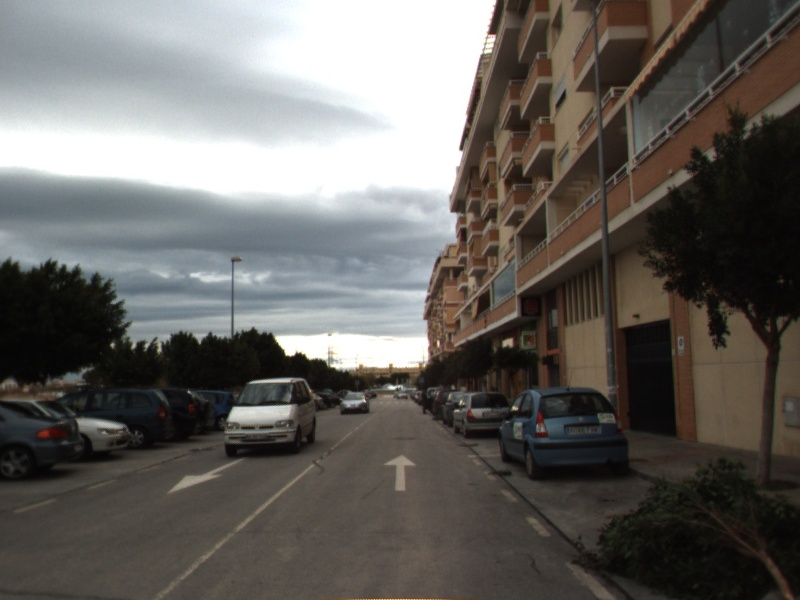STRAIGHT: (382, 453, 418, 493)
